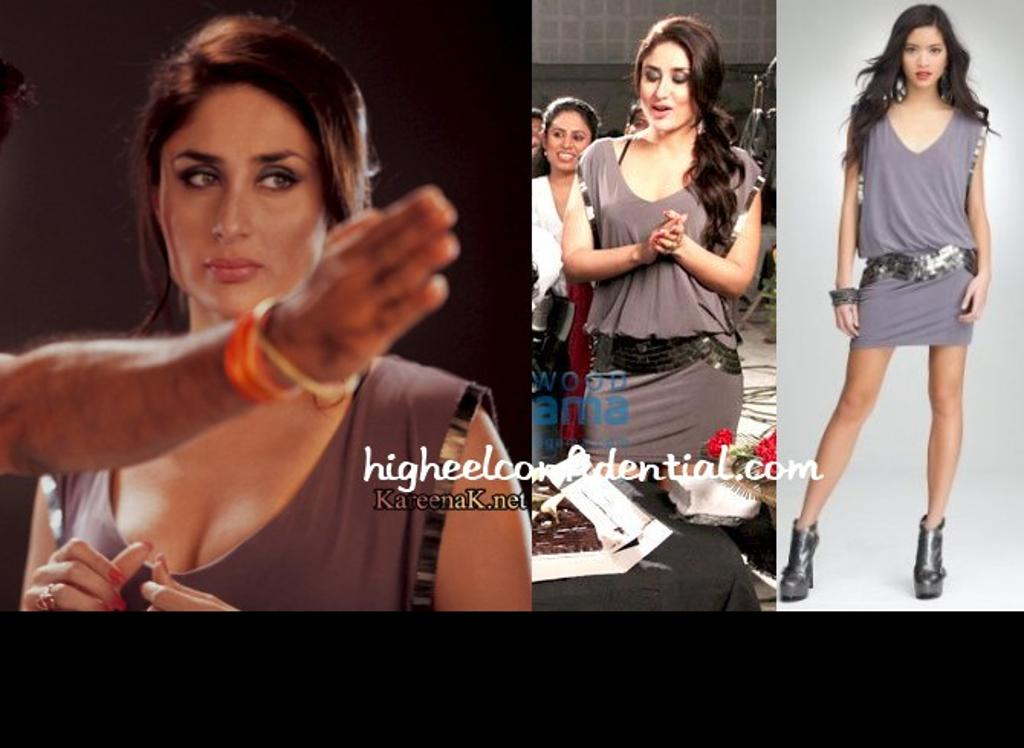face: (158, 89, 330, 316), (640, 44, 696, 130), (904, 28, 945, 87), (546, 118, 591, 171), (519, 117, 546, 157), (630, 114, 657, 149)
